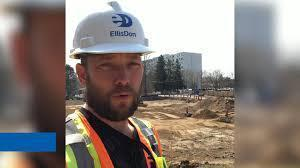helmet: (69, 1, 155, 57)
